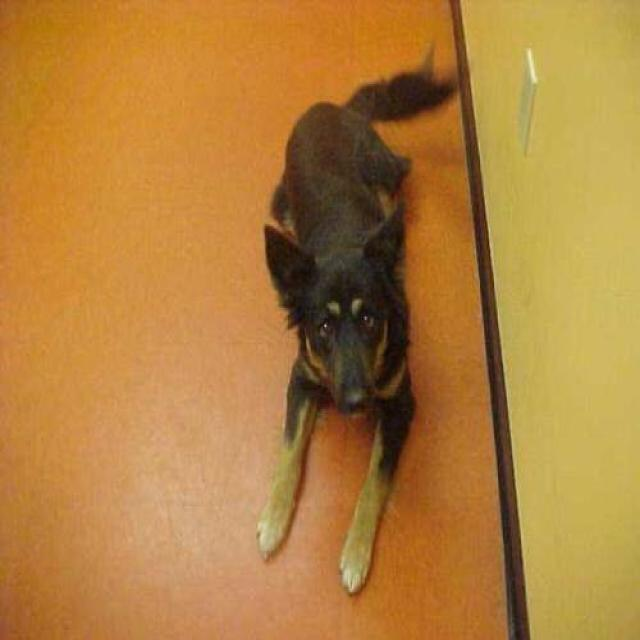dog: (254, 38, 458, 596)
